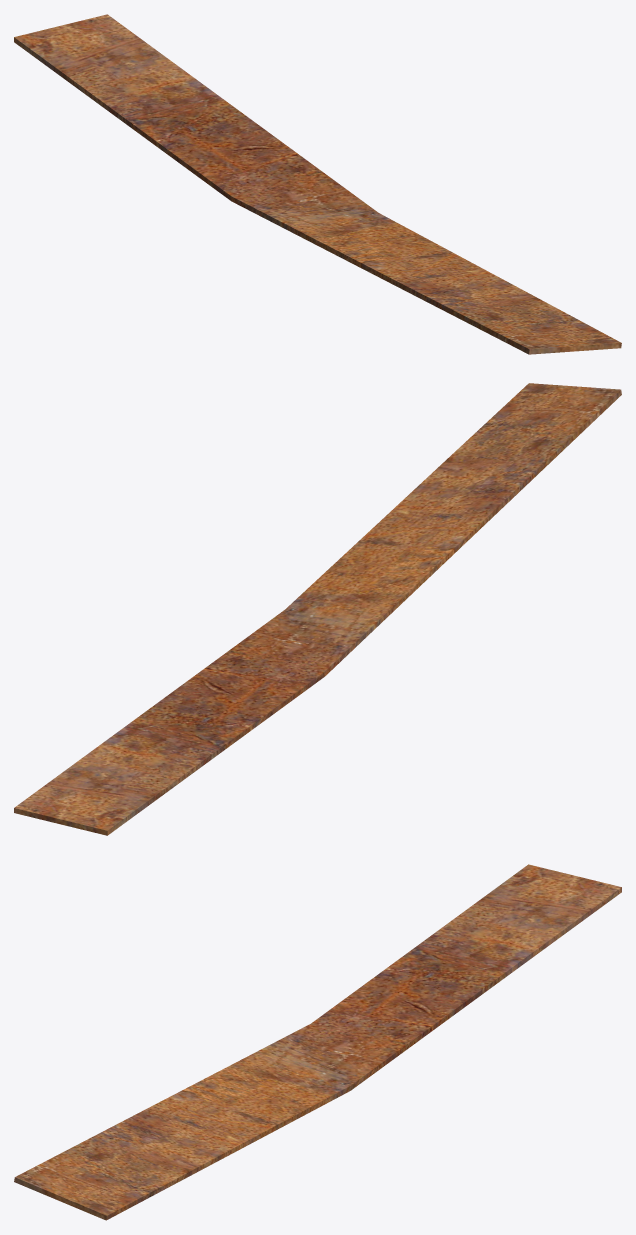
The model's file is Metal_Bar_A_2.fbx.
The picture shows the model from 3 angles, top to bottom: view 1: azimuth 30°, elevation 25°; view 2: azimuth 150°, elevation 25°; view 3: azimuth 330°, elevation 25°; orthographic projection.
Parts seen in each view (by area): view 1: pCube8; view 2: pCube8; view 3: pCube8.
Part boxes in pixels (x1,y1,x2,y2): pCube8: (14, 14, 621, 354); pCube8: (14, 383, 621, 835); pCube8: (14, 864, 621, 1220).
Bounding box in the file's own units: 0.975 × 0.6899 × 9.3.
